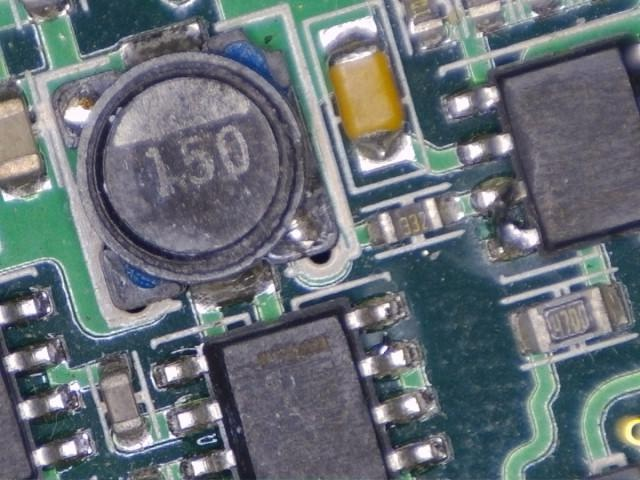pcb_defect: (344, 292, 424, 379), (475, 177, 541, 262)
